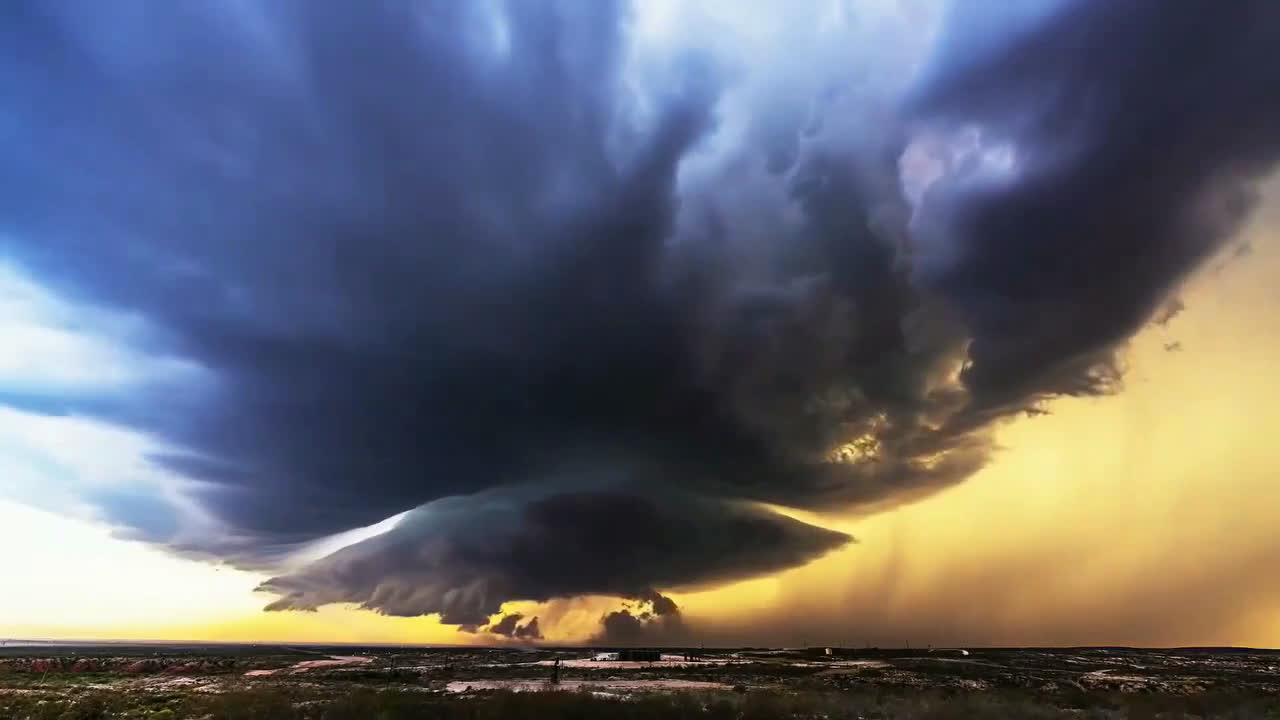FFD: (857, 246, 1279, 644)
RFD: (519, 538, 911, 645)
mesocyclone: (203, 201, 993, 577)
wall cloud: (255, 482, 853, 622)
